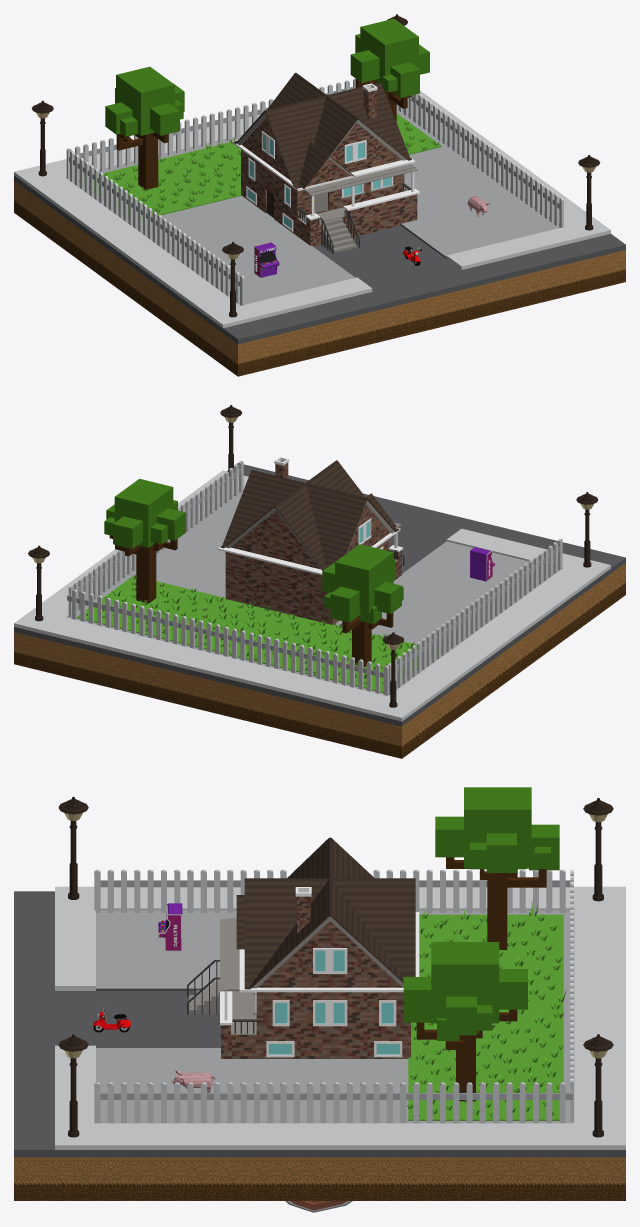
The picture shows the model from 3 angles, top to bottom: view 1: azimuth 30°, elevation 25°; view 2: azimuth 150°, elevation 25°; view 3: azimuth 270°, elevation 25°; orthographic projection. The views are drawn at different scales.
Visible parts, largest first — view 1: Cube.004, Cube.117, OBJRANDOM_ARCADE; view 2: Cube.004, Cube.117, OBJRANDOM_ARCADE; view 3: Cube.004, Cube.117, OBJRANDOM_ARCADE.
Boxes of the visible parts, box(x1,y1,x2,y2) form: Cube.004: box(14, 14, 625, 376); Cube.117: box(232, 72, 420, 253); OBJRANDOM_ARCADE: box(254, 242, 279, 277); Cube.004: box(14, 405, 625, 758); Cube.117: box(217, 457, 404, 624); OBJRANDOM_ARCADE: box(470, 546, 495, 581); Cube.004: box(14, 787, 625, 1200); Cube.117: box(187, 837, 419, 1058); OBJRANDOM_ARCADE: box(158, 903, 182, 951).
Size of the model in its own units: 4000 by 2317 by 4000.
44 materials, 4 textured.
